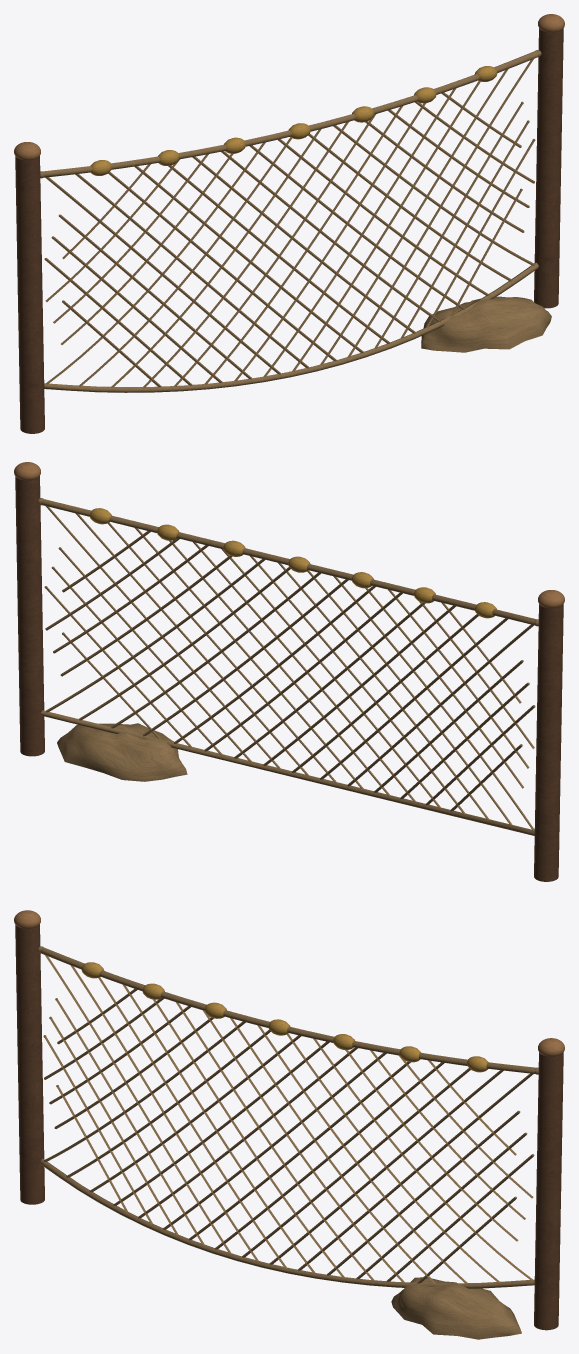
File: fishing_nets.glb
3 renders of one model, top to bottom at view 1: azimuth 30°, elevation 25°; view 2: azimuth 150°, elevation 25°; view 3: azimuth 330°, elevation 25°, orthographic.
Parts seen in each view (by area): view 1: fishing_nets; view 2: fishing_nets; view 3: fishing_nets.
Part boxes in pixels (left/top/right/bottom): fishing_nets: left=14, top=14, right=564, bottom=433; fishing_nets: left=14, top=462, right=564, bottom=881; fishing_nets: left=14, top=910, right=564, bottom=1339.
Size of the model in its own units: 2.8 by 1.4 by 0.4.
Materials: 1 (1 with a texture image).
